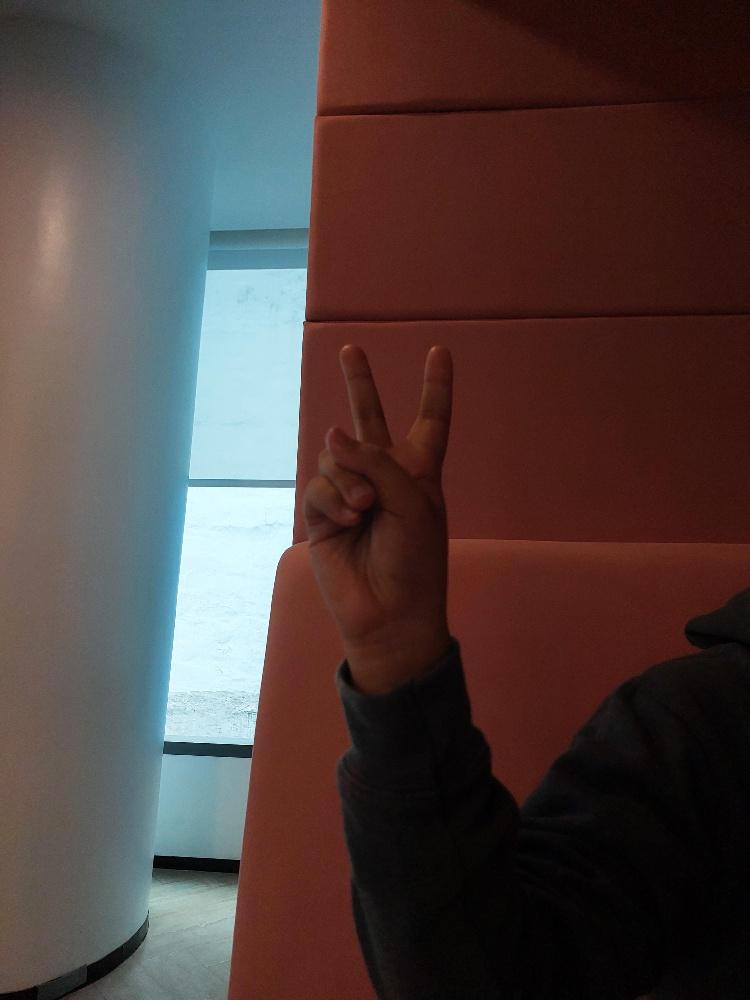v: (295, 330, 464, 659)
